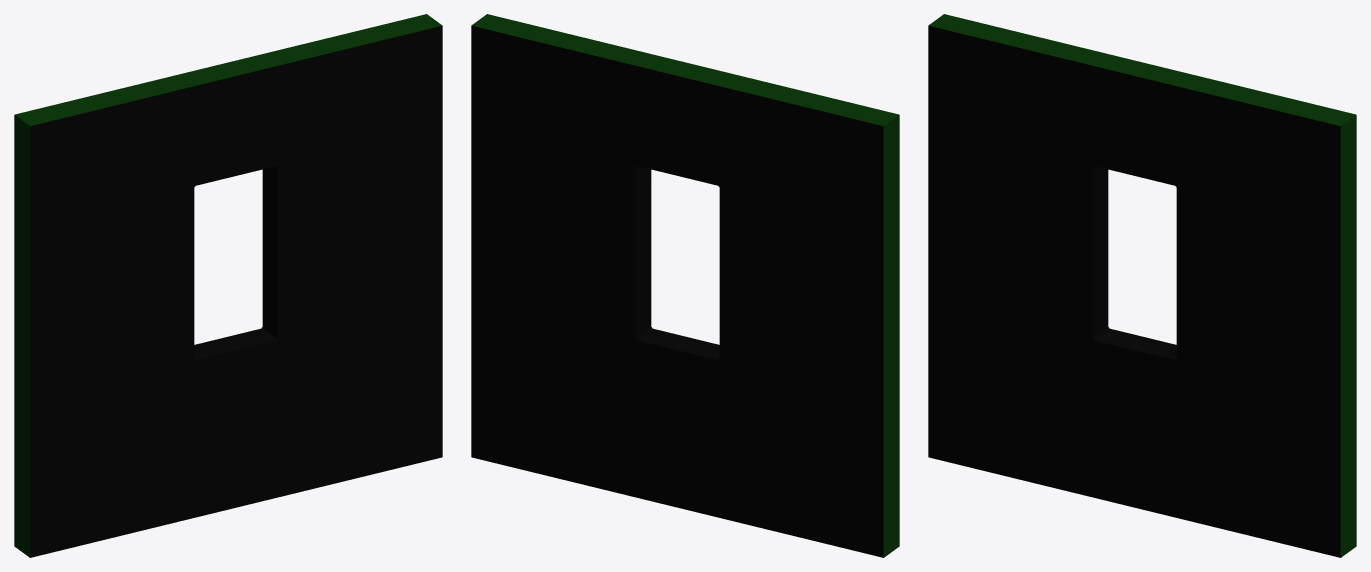
The model's file is DBK_Brick_WinSmall_Full.fbx.
3 renders of one model, left to right at view 1: azimuth 30°, elevation 25°; view 2: azimuth 150°, elevation 25°; view 3: azimuth 330°, elevation 25°, orthographic.
Parts seen in each view (by area): view 1: DBK_Brick_WinSmall_Full; view 2: DBK_Brick_WinSmall_Full; view 3: DBK_Brick_WinSmall_Full.
Part boxes in pixels (x1,y1,x2,y2): DBK_Brick_WinSmall_Full: (14,14,442,557); DBK_Brick_WinSmall_Full: (471,14,899,557); DBK_Brick_WinSmall_Full: (928,14,1356,557).
Bounding box in the file's own units: 300 × 300 × 20.
